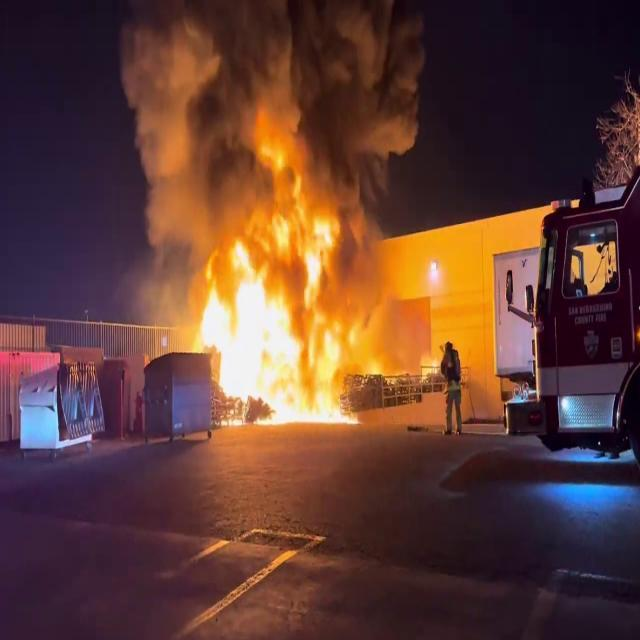Fire: (184, 158, 368, 424)
Smoke: (116, 0, 432, 274)
